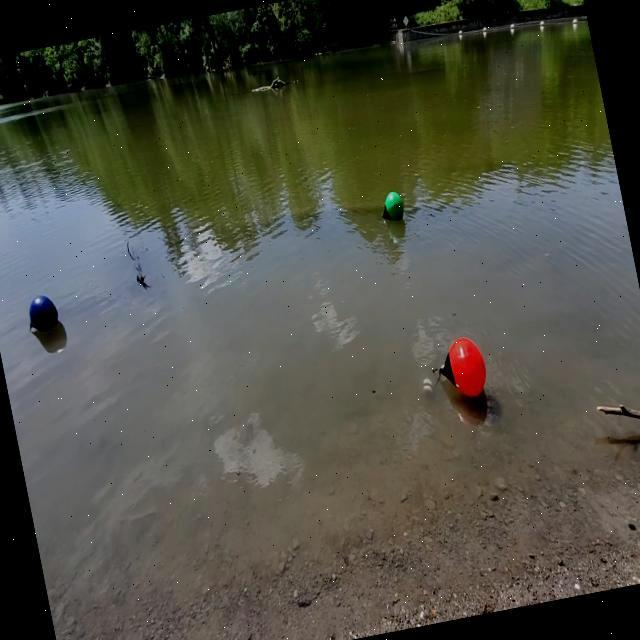buoy: (422, 330, 495, 408), (21, 289, 64, 342), (377, 186, 410, 228)
